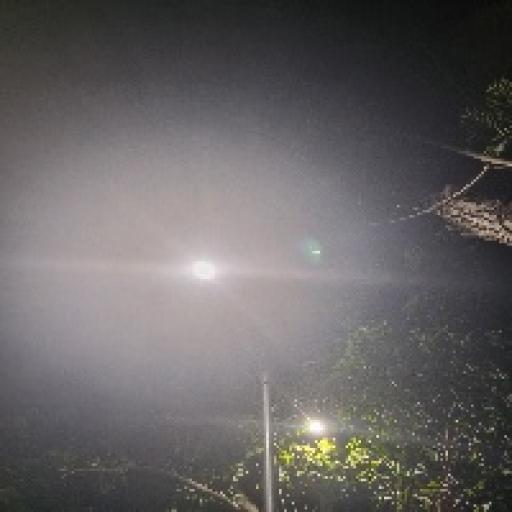Working: (177, 253, 227, 289), (298, 416, 338, 440)
